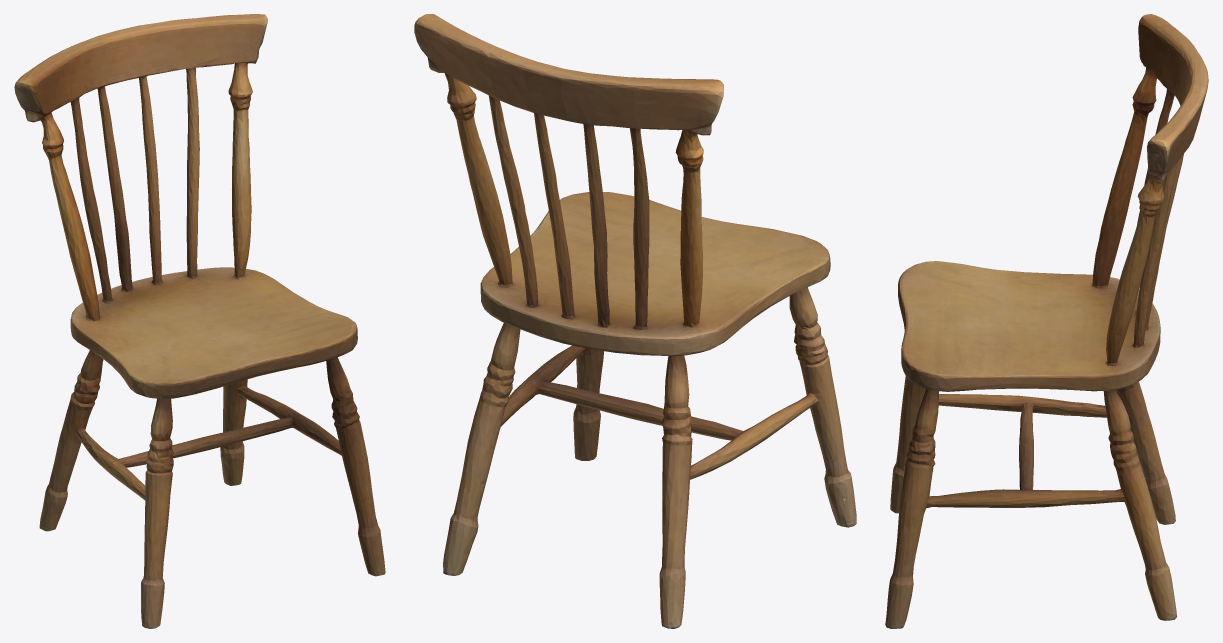
Rendered from dinechair.glb.
3 views of the same model, side by side, from view 1: azimuth 30°, elevation 25°; view 2: azimuth 150°, elevation 25°; view 3: azimuth 270°, elevation 25° (orthographic). The views are drawn at different scales.
Visible parts, largest first — view 1: geometry_0; view 2: geometry_0; view 3: geometry_0.
Part boxes in pixels (x1,y1,x2,y2): geometry_0: (14, 14, 385, 628); geometry_0: (414, 14, 856, 628); geometry_0: (885, 14, 1208, 628).
Bounding box in the file's own units: 0.5806 × 1 × 0.5962.
1 material, 1 textured.
